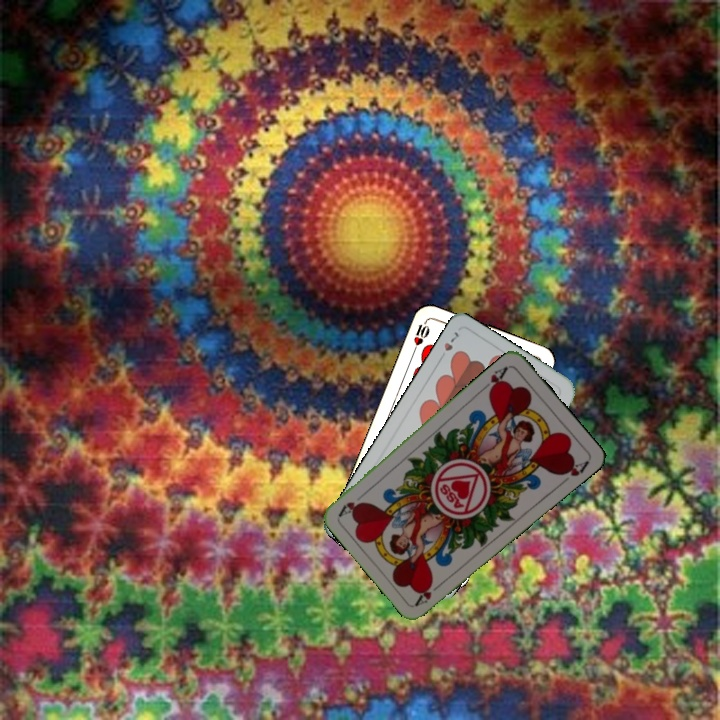H10: (409, 315, 432, 354)
H7: (435, 327, 461, 363)
HA: (478, 362, 511, 397), (411, 577, 446, 608)
